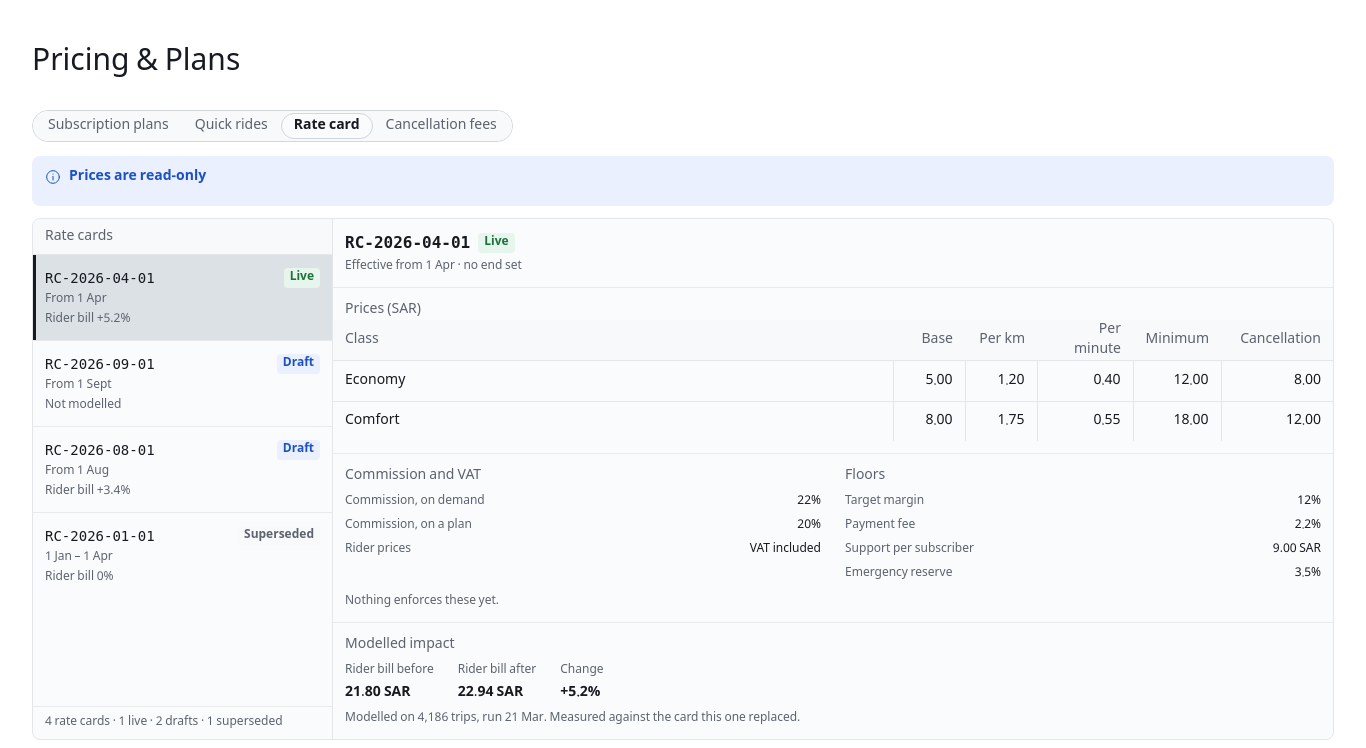
Test case: the detail pane › AC-RC-36 — band C states commission, VAT and the floors as key/value rows
The width and height of the screenshot is (1366, 748).
Check: the list named "Rate cards" is shown, box 33,255 -> 332,598
Check: the 1st text "RC-2026-04-01" is shown, box 345,231 -> 470,255
What coordinates should you click on to do the following:
click the link "RC-2026-09-01 Draft From 1 Sept Not modelled"
I would click on:
 (100, 364)
Its box is 33,341 -> 332,426.
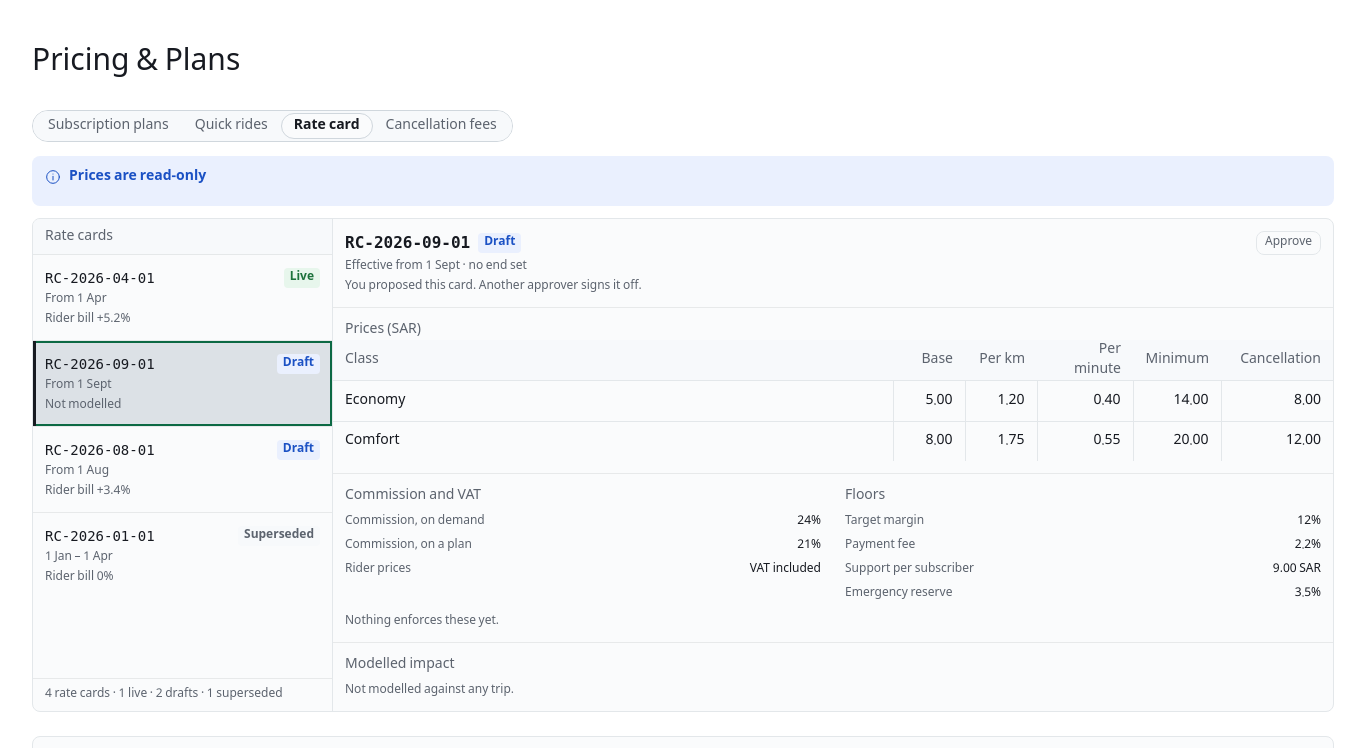
Check: the text "RC-2026-09-01" is shown, box 345,233 -> 470,252
Check: the text "24%" is shown, box 797,511 -> 821,532
Check: the text "21%" is shown, box 797,535 -> 821,556
